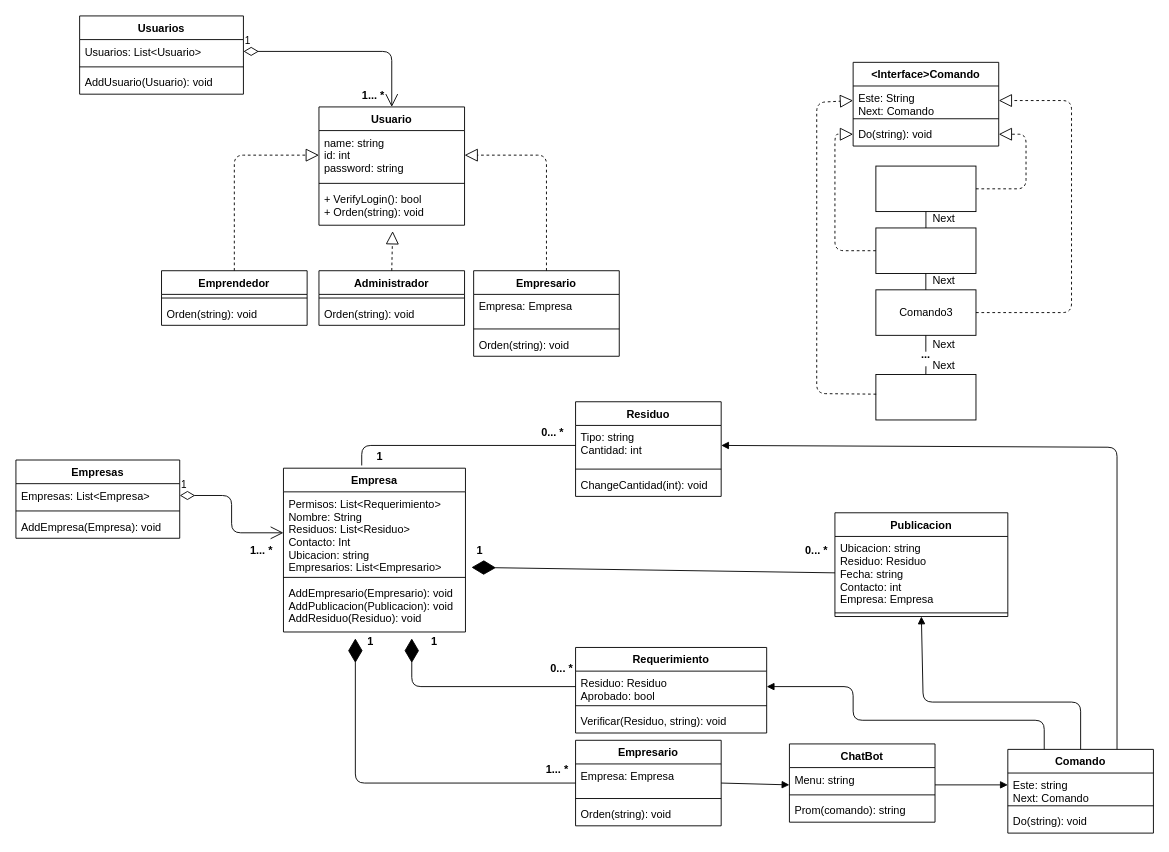
Some shapes in this 1169 by 852 pixel diagram are drawn without their labels. Each missing label, with the centre of its shape:
Comando1: (x=925, y=188)
Comando2: (x=925, y=250)
ComandoX: (x=925, y=397)
